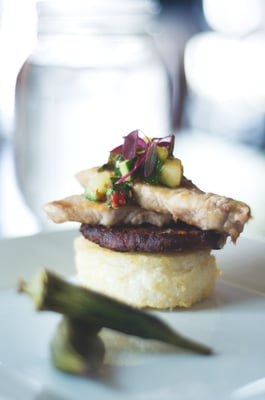soup: (39, 129, 252, 311)
